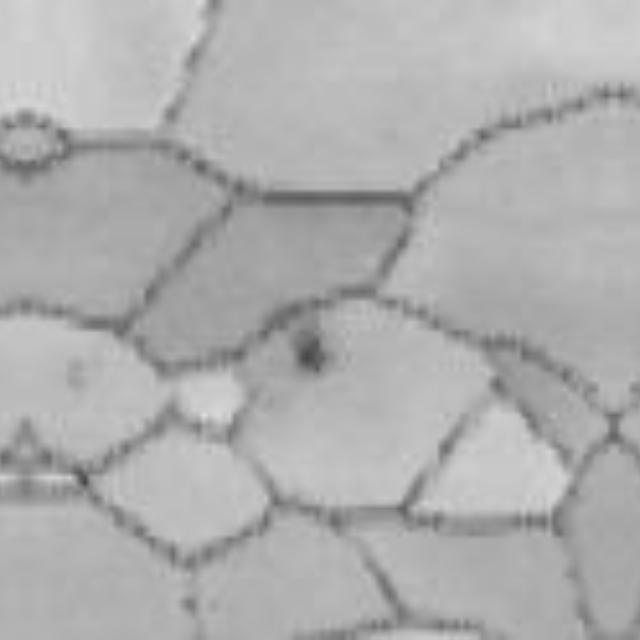good_void: (293, 330, 319, 372), (180, 599, 190, 614)
